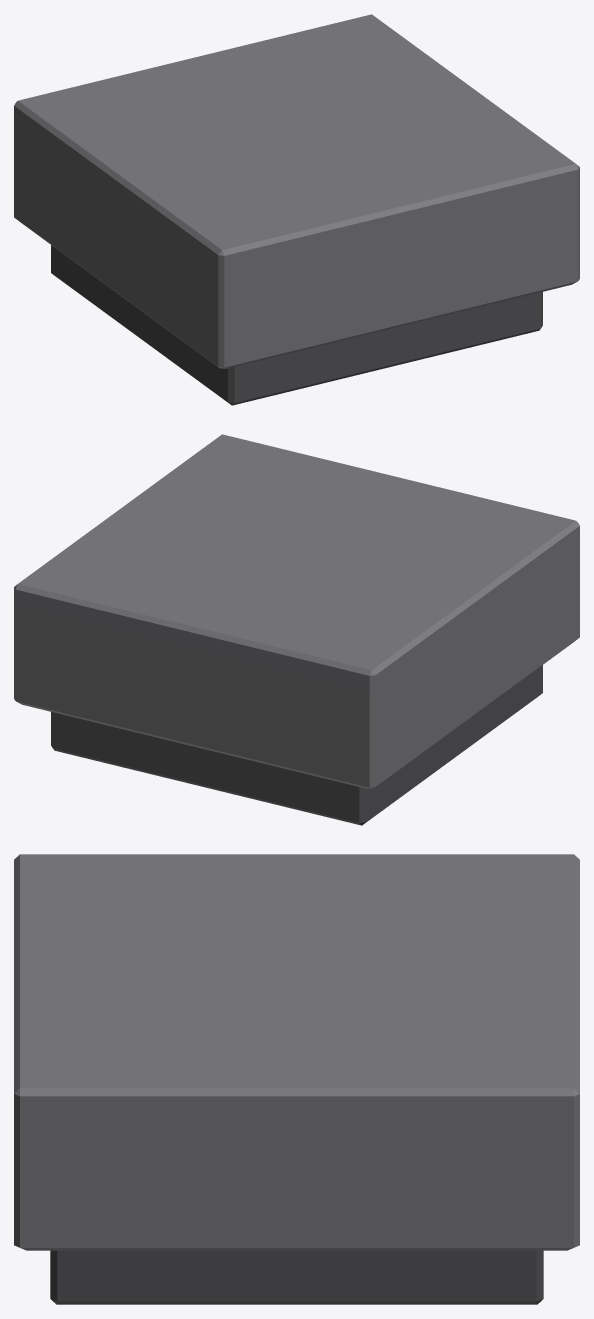
Rendered from puf.fbx.
3 renders of one model, top to bottom at view 1: azimuth 30°, elevation 25°; view 2: azimuth 150°, elevation 25°; view 3: azimuth 270°, elevation 25°, orthographic. The views are drawn at different scales.
Visible parts, largest first — view 1: puf; view 2: puf; view 3: puf.
Part boxes in pixels (x1,y1,x2,y2): puf: (14, 14, 579, 405); puf: (14, 434, 579, 825); puf: (14, 854, 579, 1304).
Size of the model in its own units: 39.87 by 18.01 by 39.87.
1 material, 1 textured.
